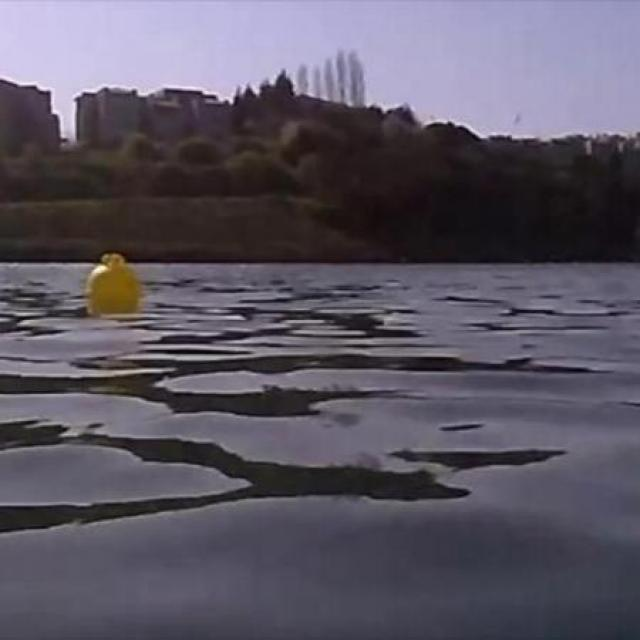buoy: (87, 251, 142, 316)
